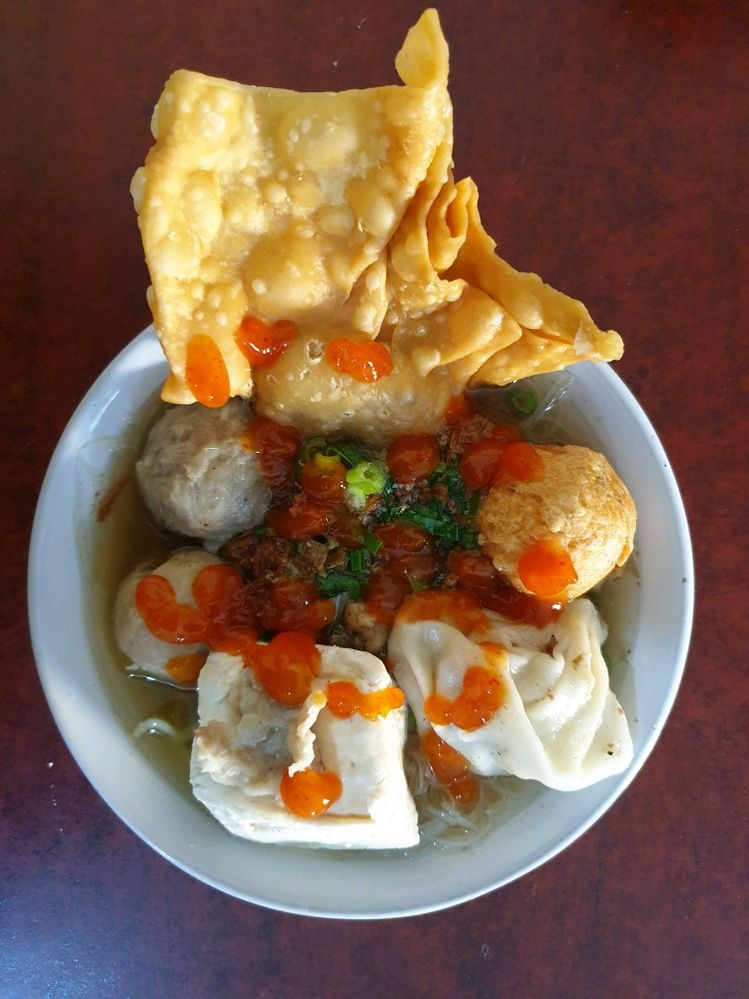bakso_malang: (131, 9, 638, 853)
